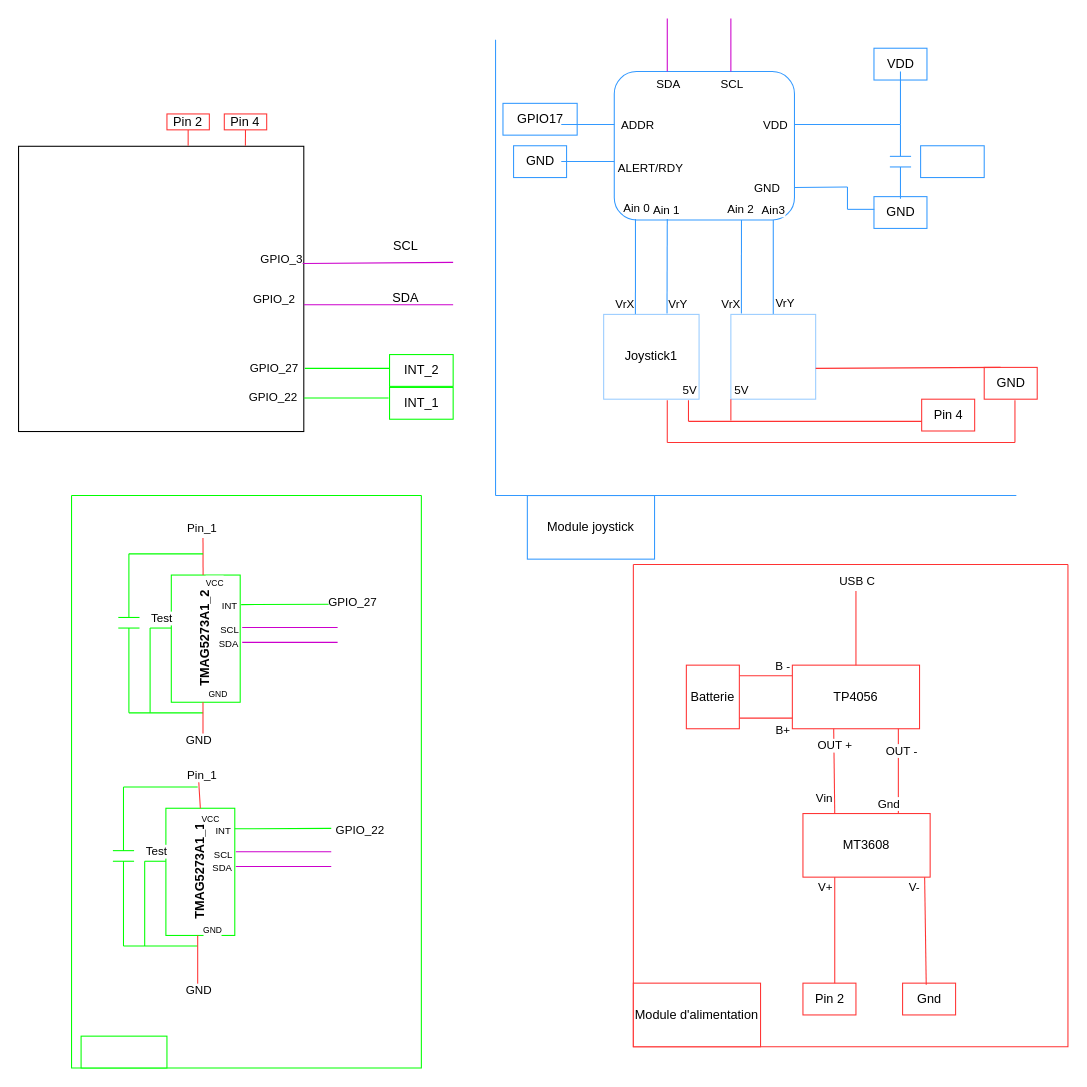
The diagram is 1087 pixels wide and 1087 high, and some of its shapes have lost their labels. Each missing label, with the centre of its shape:
0.1 uF: the point at 952,161
ADS1115: the point at 703,145
Joystick2: the point at 773,356
Module Trigger: the point at 123,1051
Raspberry pi 0 2W: the point at 160,288
